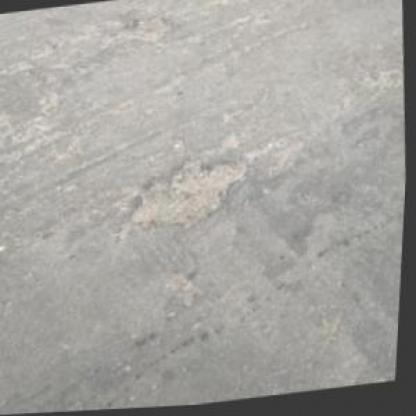pothole: (126, 152, 259, 238), (114, 15, 180, 50)
